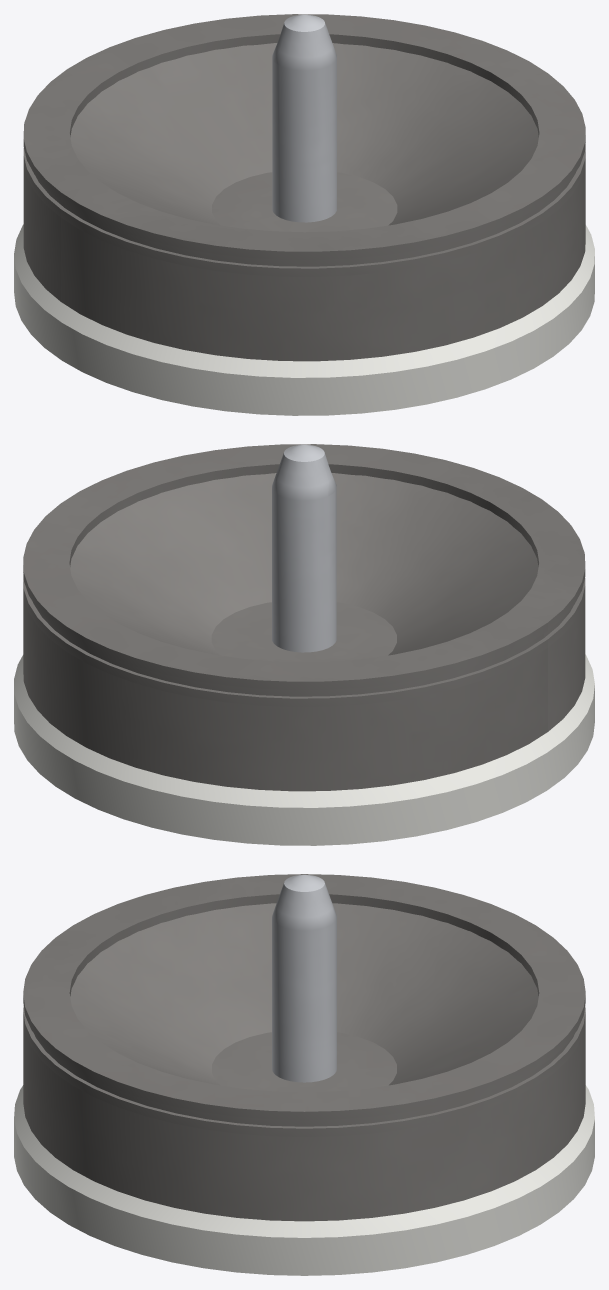
The model's file is ax_util_02_probe_port.glb.
3 renders of one model, top to bottom at view 1: azimuth 30°, elevation 25°; view 2: azimuth 150°, elevation 25°; view 3: azimuth 270°, elevation 25°, orthographic.
Visible parts, largest first — view 1: drogue_cone, latch_ring, mount_ring, probe; view 2: drogue_cone, latch_ring, mount_ring, probe; view 3: drogue_cone, latch_ring, mount_ring, probe.
Boxes of the visible parts, x1,y1,x2,y2 form: drogue_cone: (23, 43, 585, 361); latch_ring: (23, 14, 585, 276); mount_ring: (14, 224, 594, 415); probe: (272, 14, 336, 222); drogue_cone: (23, 473, 585, 791); latch_ring: (23, 444, 585, 706); mount_ring: (14, 654, 594, 845); probe: (272, 444, 336, 652); drogue_cone: (23, 903, 585, 1221); latch_ring: (23, 874, 585, 1136); mount_ring: (14, 1085, 594, 1275); probe: (272, 874, 336, 1082).
Bounding box in the file's own units: 0.6245 × 0.33 × 0.6247.
Materials: 3 (2 with a texture image).
